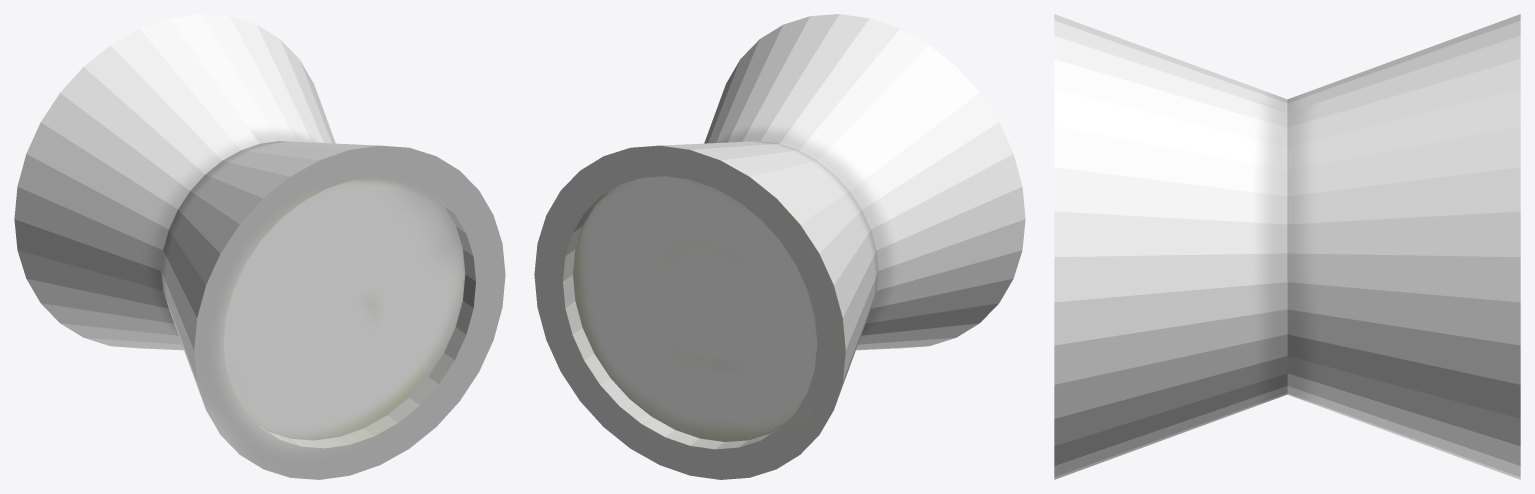
The model's file is Bomba_prefab.fbx.
The picture shows the model from 3 angles, left to right: view 1: azimuth 30°, elevation 25°; view 2: azimuth 150°, elevation 25°; view 3: azimuth 270°, elevation 25°; orthographic projection. The views are drawn at different scales.
Parts seen in each view (by area): view 1: Cilindro; view 2: Cilindro; view 3: Cilindro.
Part boxes in pixels (box(x1,y1,x2,y2)): Cilindro: box(14, 14, 505, 479); Cilindro: box(534, 14, 1025, 479); Cilindro: box(1054, 14, 1520, 479).
Size of the model in its own units: 0.5952 by 0.5952 by 0.5952.
1 material, 1 textured.
